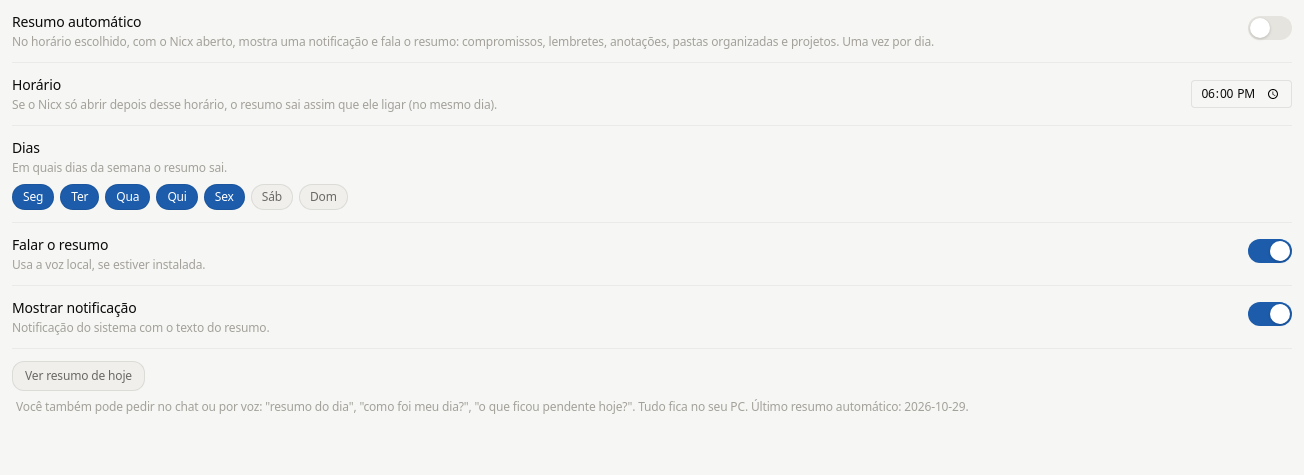
Test: DailySummarySettings › "Ver resumo de hoje" mostra o texto e oferece deixar mais natural
Expected: the text "Último resumo automático: 2026-10-29" is shown, [748,398,968,415]
Click the button "Ver resumo de hoje": (78, 376) [12,361,145,391]
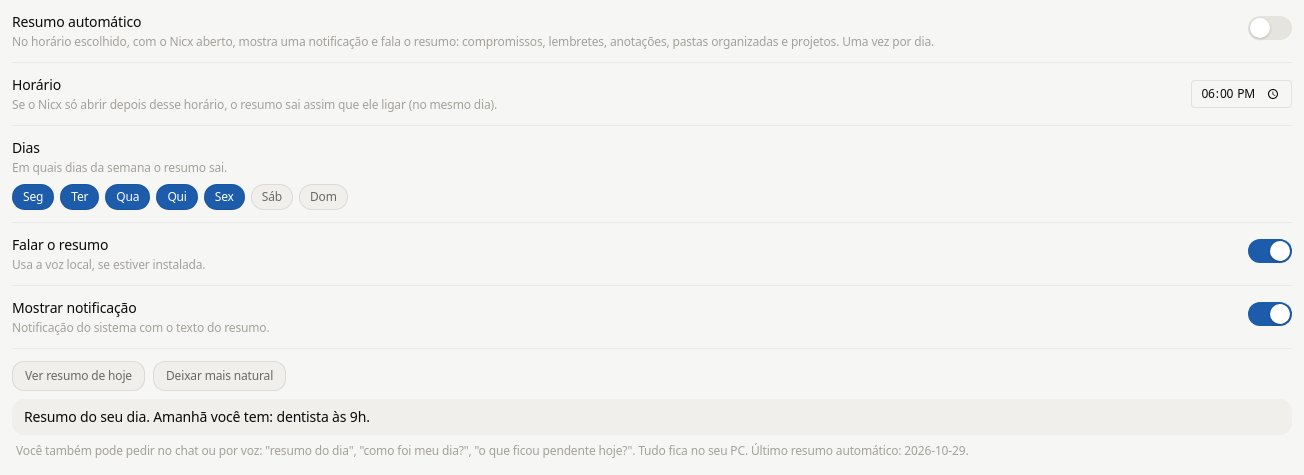
Expected: the text "Resumo do seu dia. Amanhã você tem: dentista às 9h." is shown, [12,399,1292,435]
Click the button with test id "summary-refine": (220, 376) [153,361,286,391]
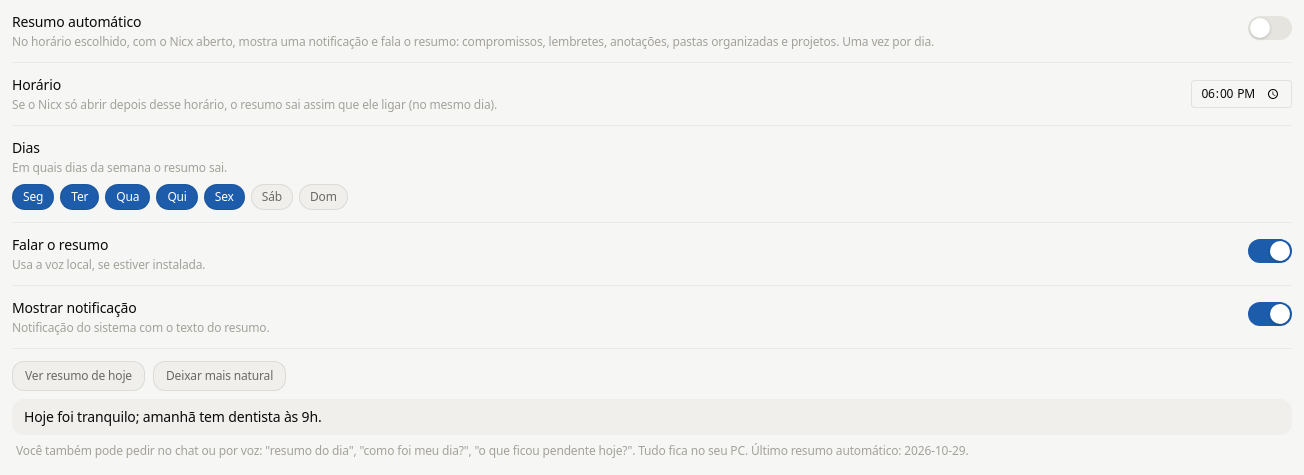
Expected: the text "Hoje foi tranquilo; amanhã tem dentista às 9h." is shown, [12,399,1292,435]
